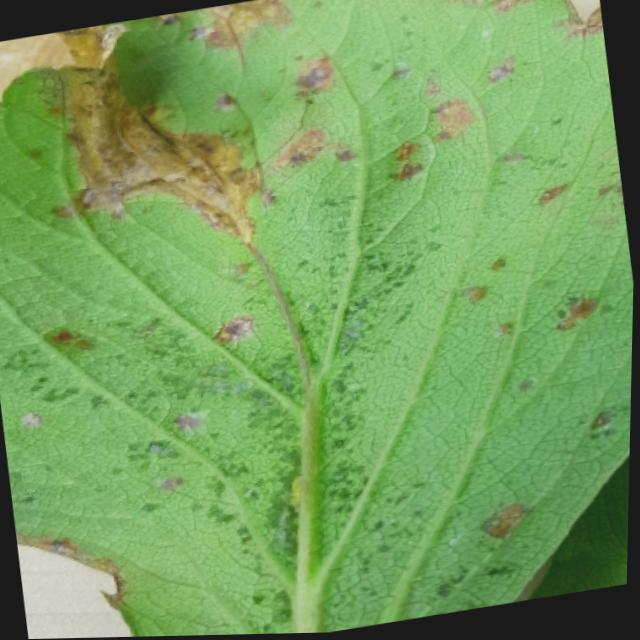Angular Leafspot: (0, 0, 635, 638)
